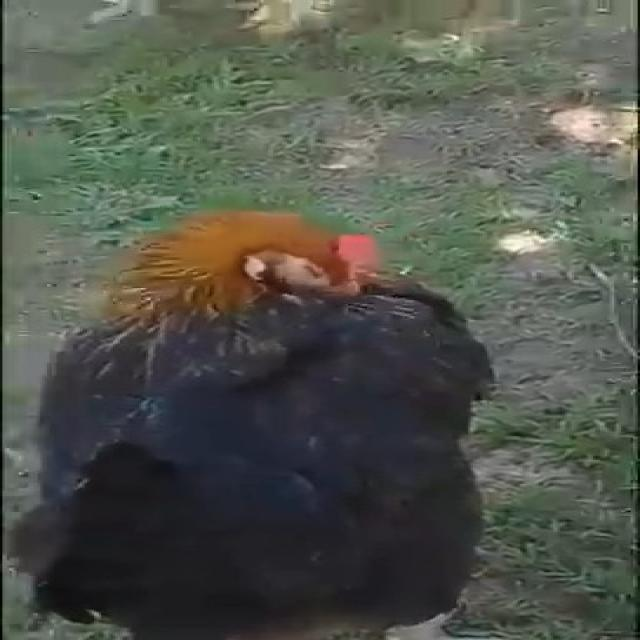self preening: (13, 205, 500, 640)
